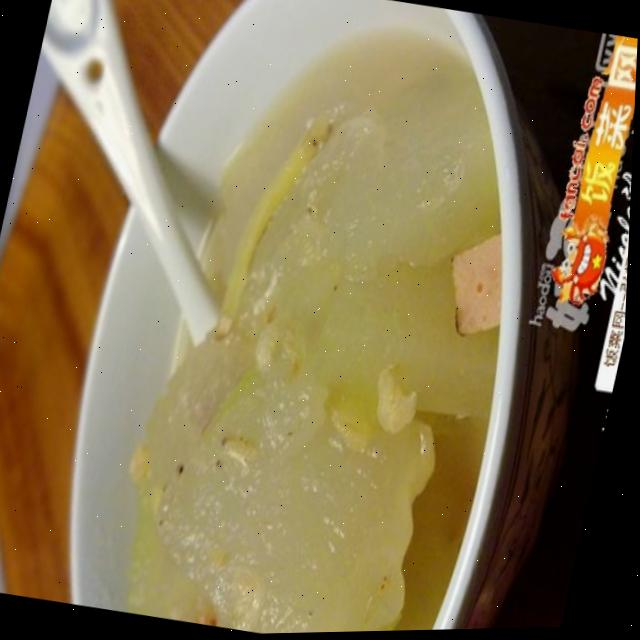汤锅炖物: (9, 0, 593, 639)
